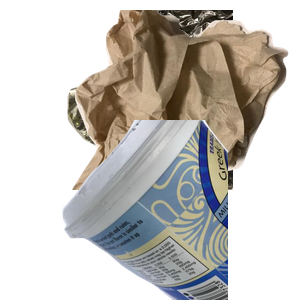glass: (96, 190, 230, 300)
metal: (60, 10, 300, 190)
plastic: (60, 120, 300, 300)
trash: (70, 10, 300, 190)
